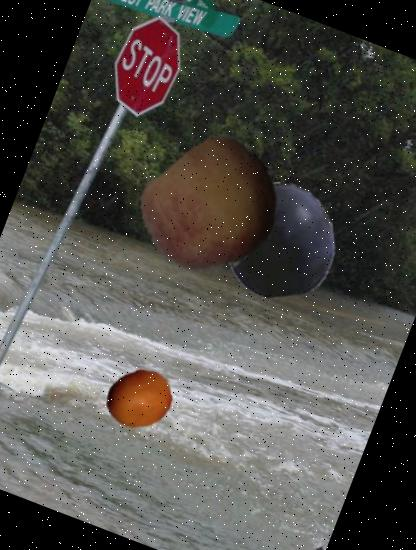Apricot: (95, 356, 182, 442)
Grape: (206, 166, 354, 314)
Peach: (124, 119, 300, 296)
